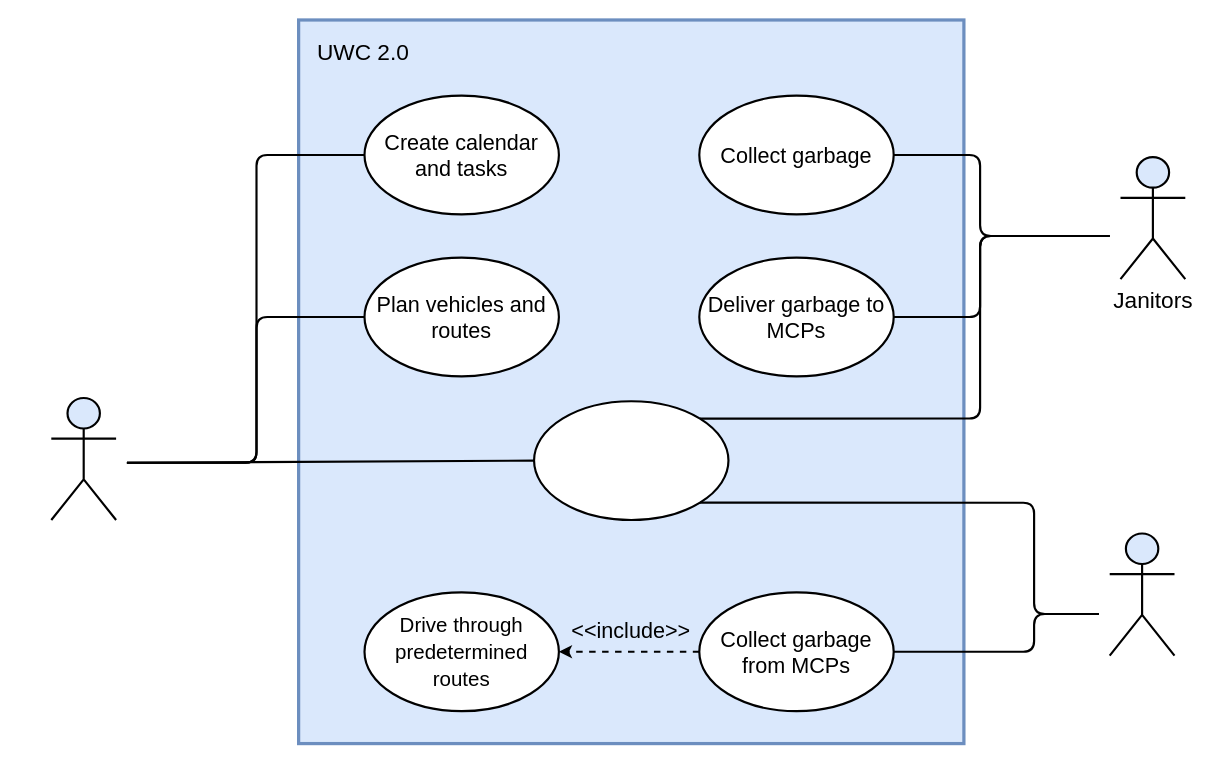
The diagram is 1211 pixels wide and 764 high, and some of its shapes have lost their labels. Here are the shapes that lost their labels. From the top down, the centre of each, then its label:
At point (83, 458): "Back officers".
At point (630, 460): "Coordinate subordinates".
At point (1141, 594): "Collectors".
